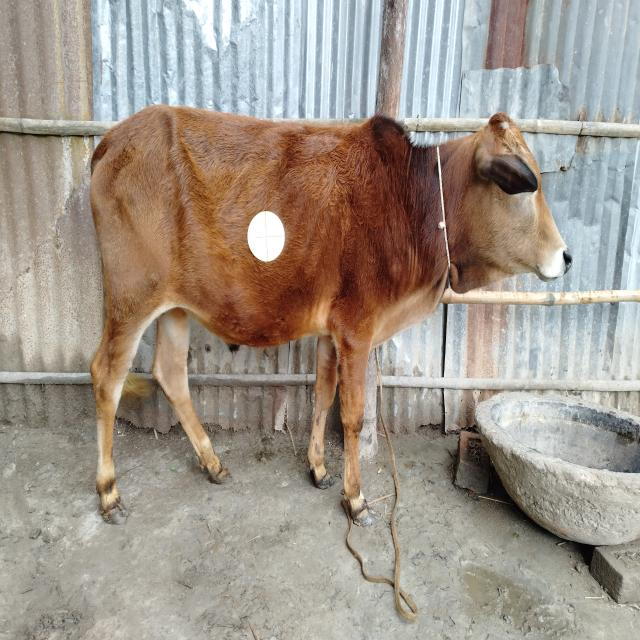badan_sapi: (91, 122, 411, 352)
sapi: (81, 93, 577, 547)
